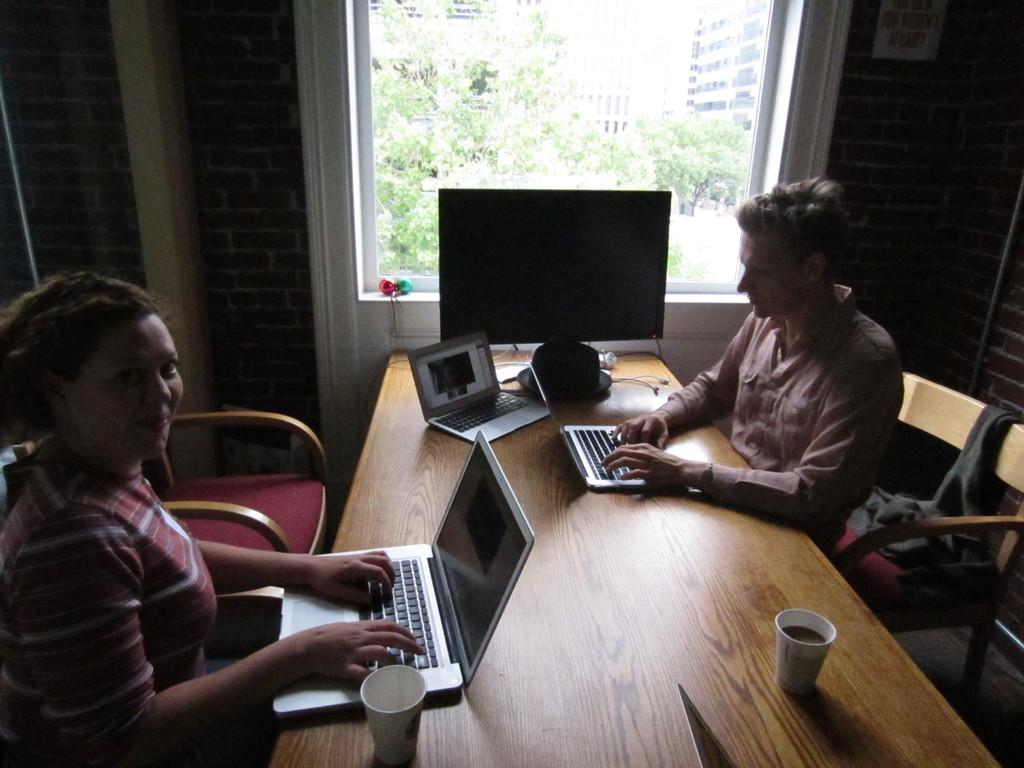Chair: (17, 407, 332, 631), (0, 460, 287, 675), (838, 398, 1019, 637)
Laptop: (208, 417, 537, 737), (407, 330, 551, 442), (530, 363, 648, 491)
